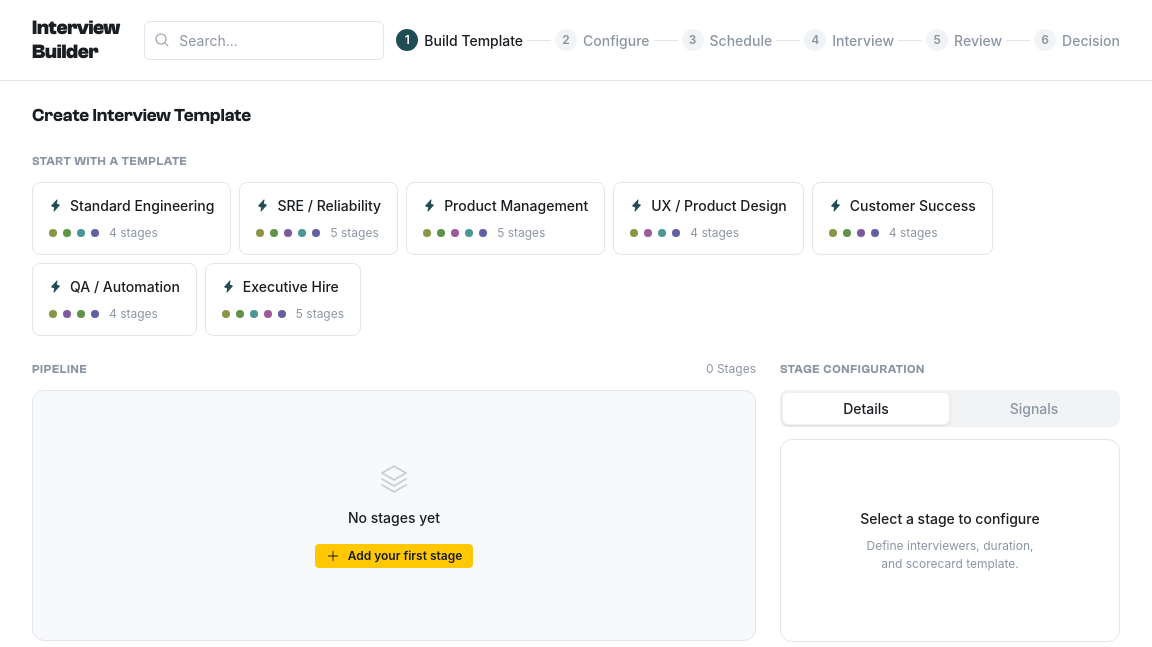
Test case: Builder page › deselects a stage when clicking the same stage again
Click the text "Standard Engineering": click(142, 205) top-left (70, 194), bottom-right (214, 216)
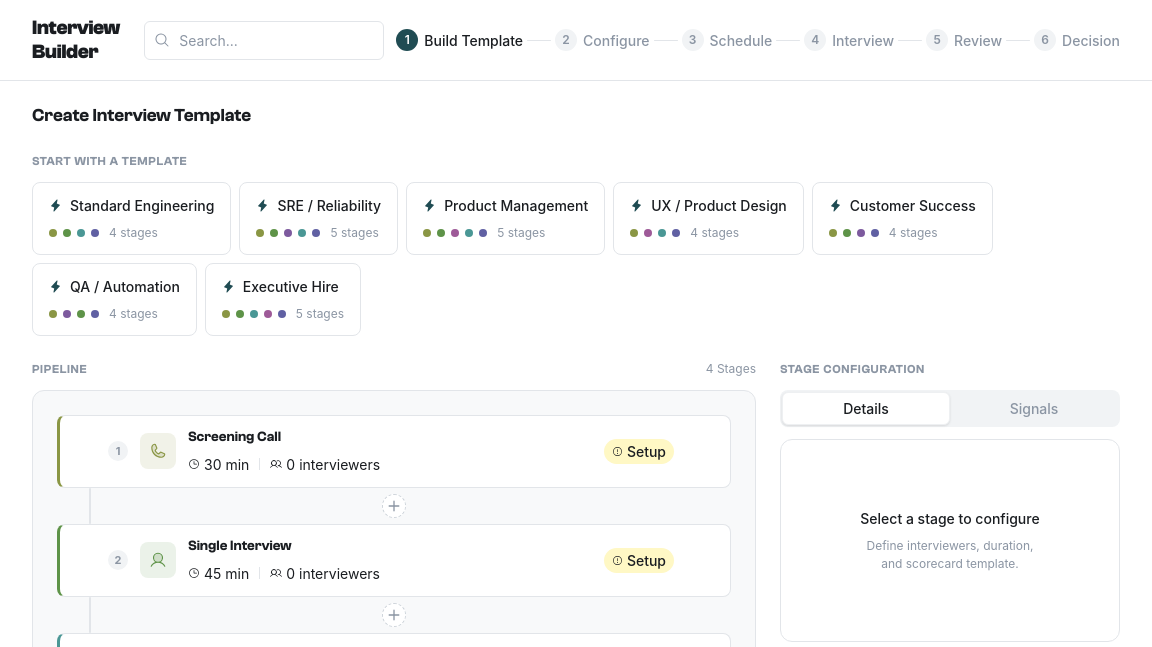
# Click to select
Click the button with aria-label "Stage 1: Screening Call": click(235, 436) top-left (57, 414), bottom-right (731, 488)
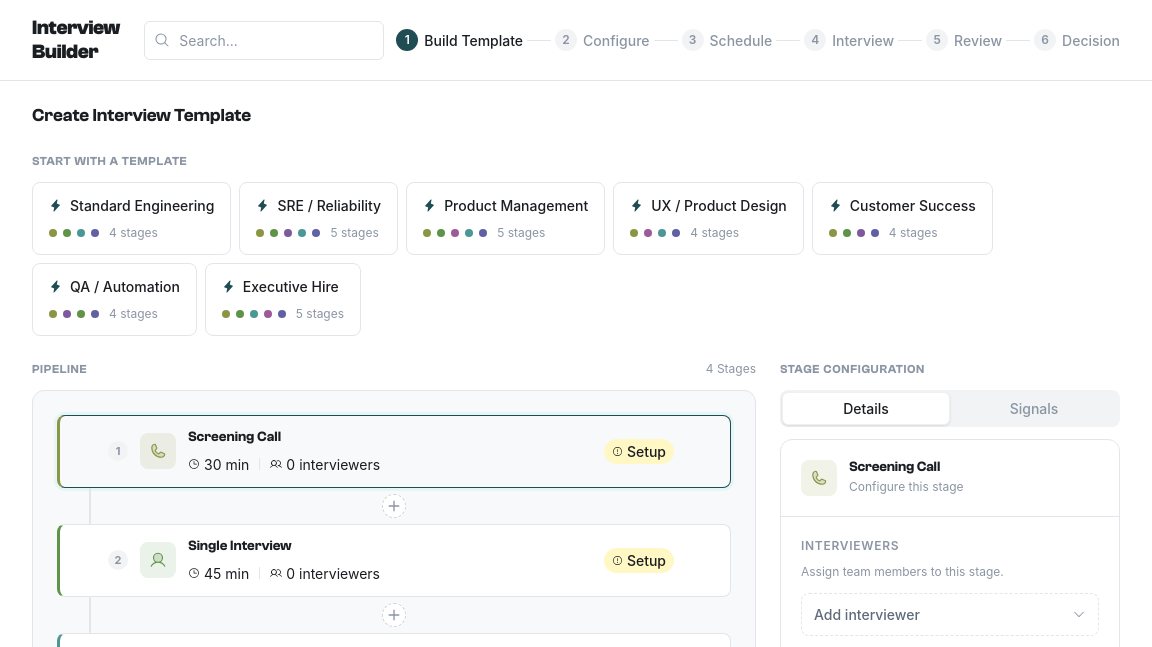
Now the text "Configure this stage" is shown, box top-left (849, 478), bottom-right (964, 496)
# Click again to deselect
Click the button with aria-label "Stage 1: Screening Call": click(235, 436) top-left (57, 414), bottom-right (731, 488)
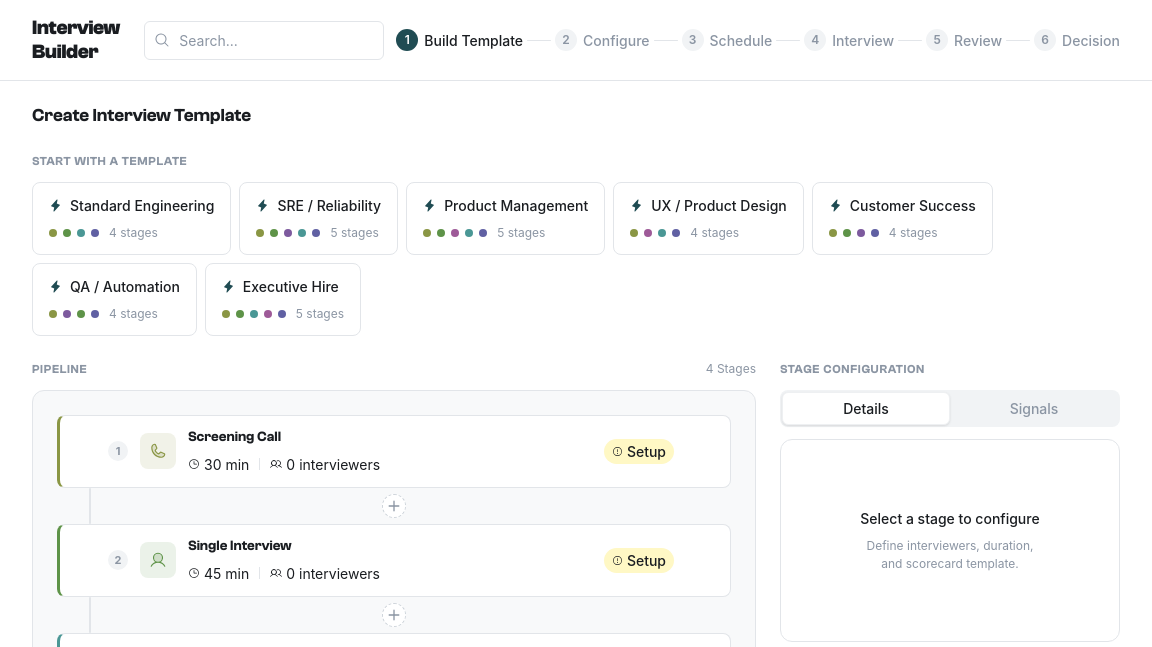
Now the text "Select a stage to configure" is shown, box top-left (860, 508), bottom-right (1040, 528)
